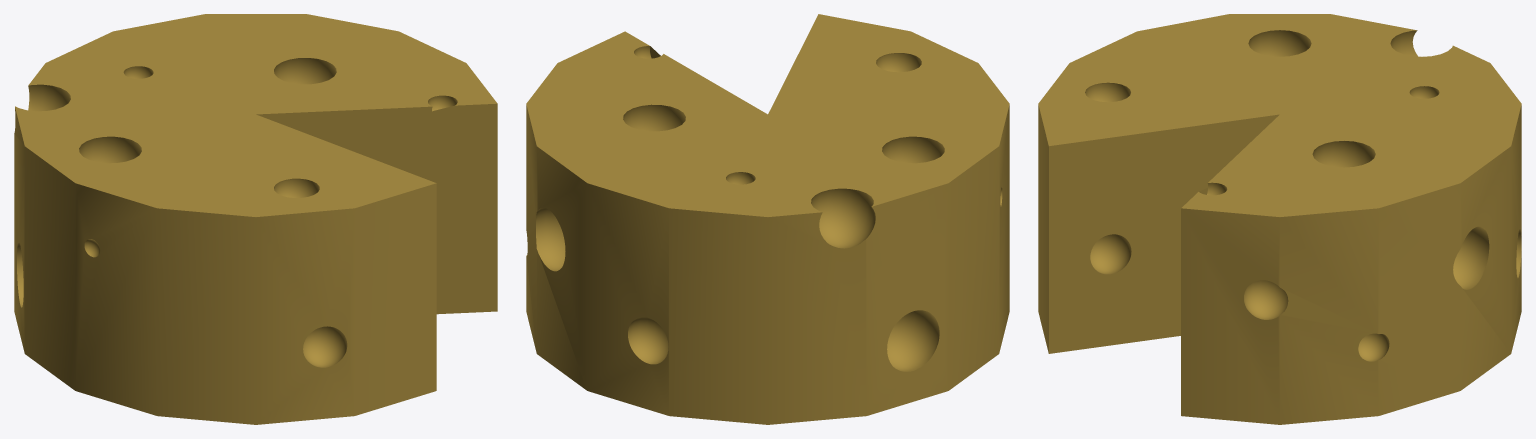
File: cheese_wheel.fbx
3 views of the same model, side by side, from view 1: azimuth 30°, elevation 25°; view 2: azimuth 150°, elevation 25°; view 3: azimuth 270°, elevation 25° (orthographic).
Visible parts, largest first — view 1: pCylinder2; view 2: pCylinder2; view 3: pCylinder2.
Part boxes in pixels (x1,y1,x2,y2): pCylinder2: (14, 14, 497, 424); pCylinder2: (526, 14, 1009, 424); pCylinder2: (1038, 14, 1521, 424).
Size of the model in its own units: 4.48 by 2.13 by 4.5.
